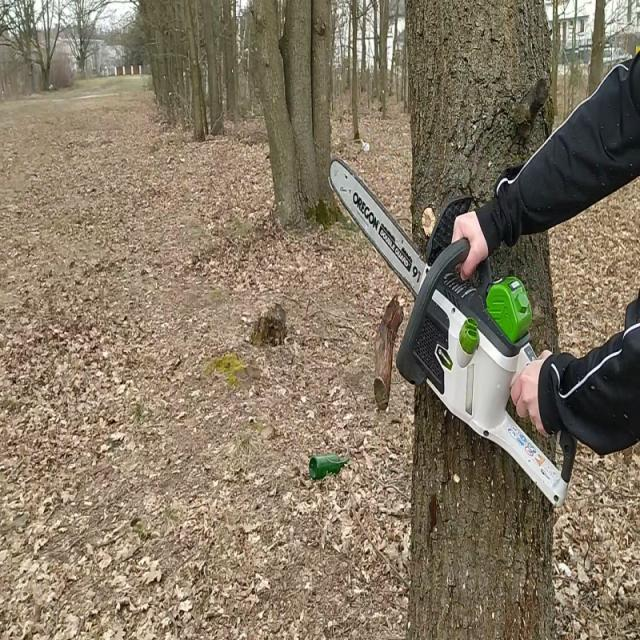Chainsaw: (325, 155, 581, 512)
